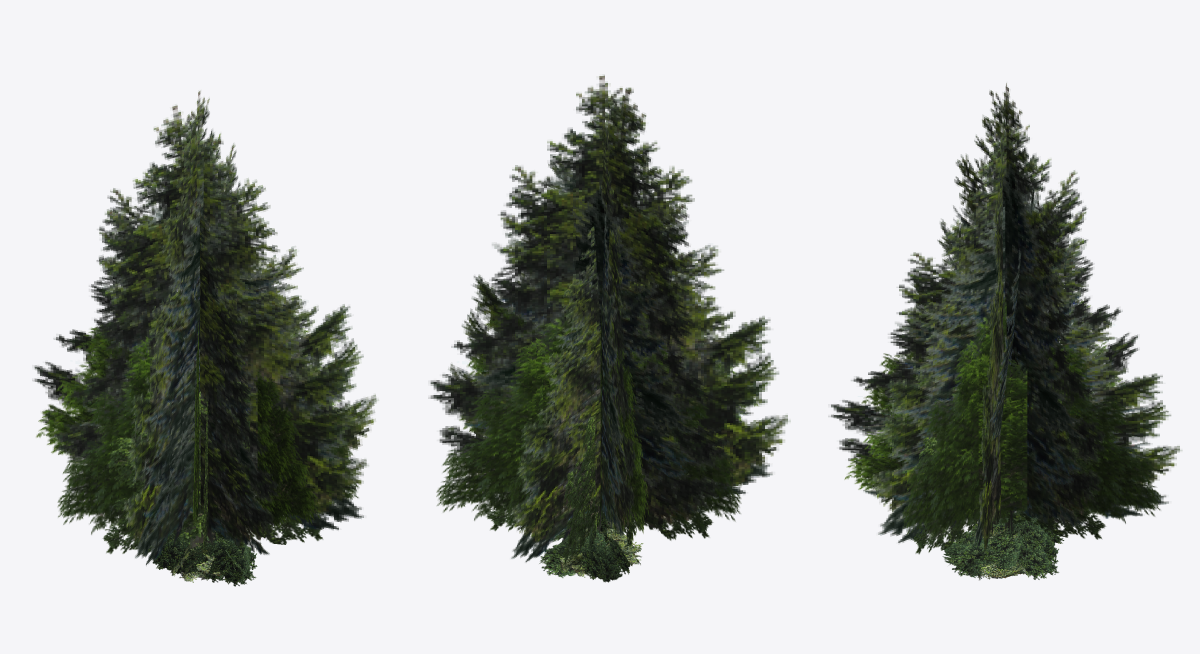
Rendered from trees_and_bush_pack_lowpoly.glb.
3 renders of one model, left to right at view 1: azimuth 30°, elevation 25°; view 2: azimuth 150°, elevation 25°; view 3: azimuth 270°, elevation 25°, orthographic. The views are drawn at different scales.
Parts seen in each view (by area): view 1: tb_pine_a, tb_pine_b, tb_oak, tb_tree_small, tb_bush_mound, tb_bush_big; view 2: tb_pine_a, tb_pine_b, tb_oak, tb_tree_small, tb_bush_mound, tb_bush_big; view 3: tb_pine_a, tb_pine_b, tb_oak, tb_bush_mound, tb_tree_small, tb_bush_big.
Boxes of the visible parts, left/top/right/bottom form: tb_pine_a: left=32, top=90, right=378, bottom=552; tb_pine_b: left=75, top=163, right=363, bottom=579; tb_oak: left=36, top=309, right=359, bottom=534; tb_tree_small: left=97, top=381, right=322, bottom=580; tb_bush_mound: left=152, top=527, right=257, bottom=586; tb_bush_big: left=170, top=538, right=243, bottom=582; tb_pine_a: left=428, top=75, right=790, bottom=543; tb_pine_b: left=460, top=149, right=772, bottom=562; tb_oak: left=436, top=287, right=758, bottom=532; tb_tree_small: left=486, top=404, right=713, bottom=564; tb_bush_mound: left=539, top=513, right=631, bottom=582; tb_bush_big: left=558, top=521, right=643, bottom=577; tb_pine_a: left=828, top=83, right=1182, bottom=551; tb_pine_b: left=860, top=162, right=1168, bottom=550; tb_oak: left=844, top=296, right=1161, bottom=541; tb_bush_mound: left=942, top=511, right=1064, bottom=579; tb_tree_small: left=891, top=406, right=1105, bottom=554; tb_bush_big: left=972, top=528, right=1025, bottom=580.
Size of the model in its own units: 11.75 by 16 by 10.58.
8 materials, 8 textured.
